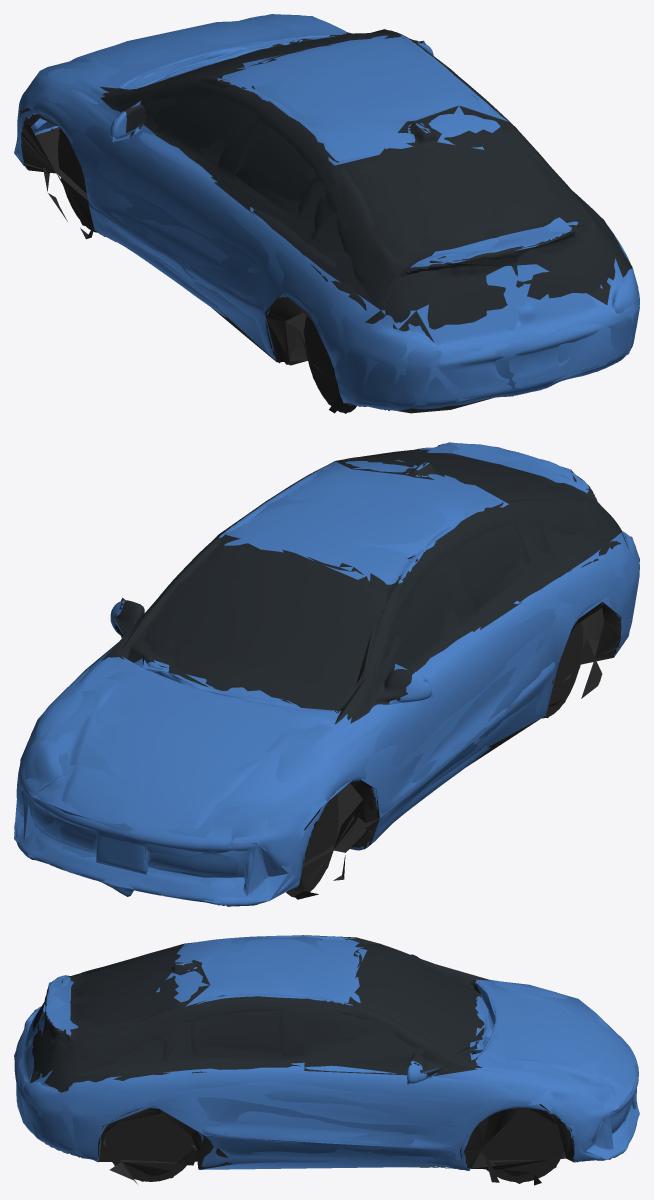
File: hyundai-ioniq-6.glb
3 renders of one model, top to bottom at view 1: azimuth 30°, elevation 25°; view 2: azimuth 150°, elevation 25°; view 3: azimuth 270°, elevation 25°, orthographic. The views are drawn at different scales.
Visible parts, largest first — view 1: body, far; view 2: body, far; view 3: body, far.
Boxes of the visible parts, <box> form: body: <box>15,14,639,413</box>; far: <box>14,14,639,413</box>; body: <box>14,443,639,906</box>; far: <box>14,442,639,903</box>; body: <box>14,935,638,1185</box>; far: <box>14,935,639,1183</box>.
Size of the model in its own units: 2.2 by 1.57 by 4.92.
